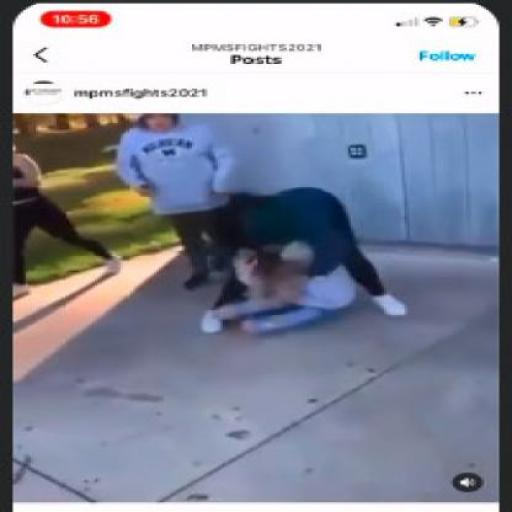Fighting: (117, 110, 408, 338)
